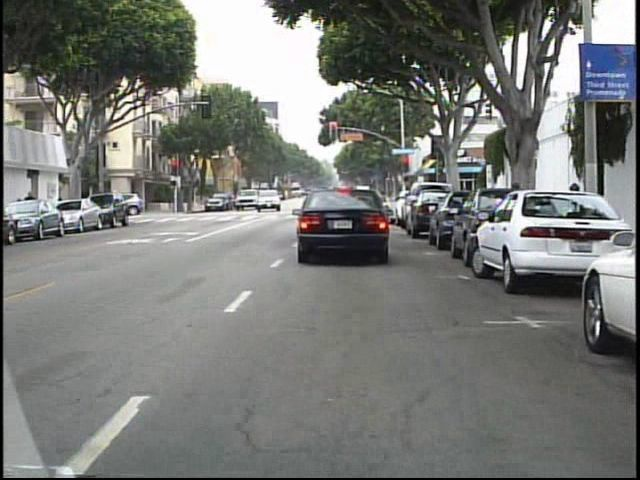person: (23, 188, 40, 230), (128, 189, 143, 218)
